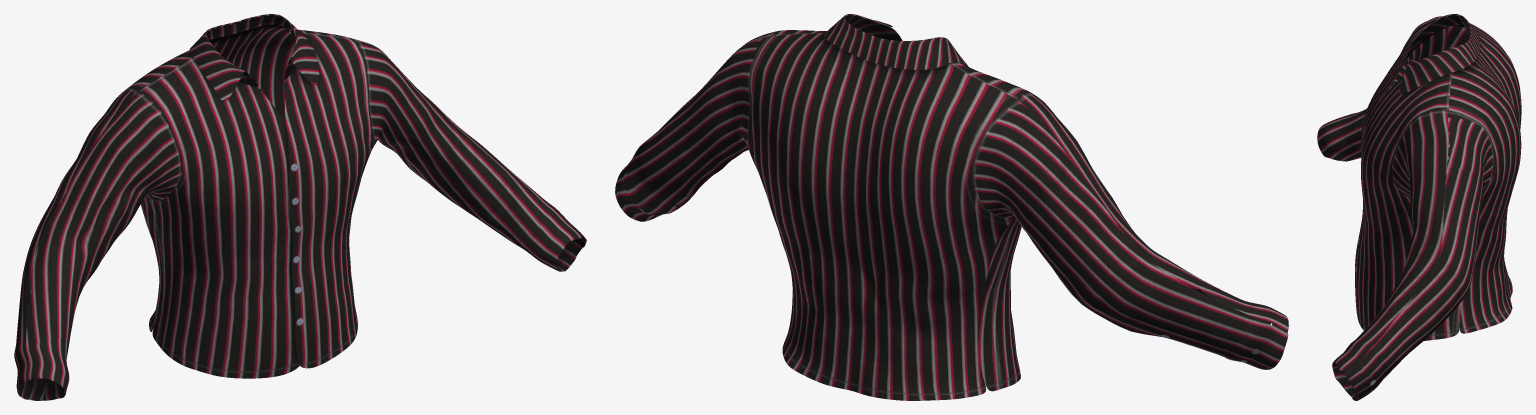
File: LM_XLM.dae
The picture shows the model from 3 angles, left to right: view 1: azimuth 30°, elevation 25°; view 2: azimuth 150°, elevation 25°; view 3: azimuth 270°, elevation 25°; orthographic projection. The views are drawn at different scales.
Parts seen in each view (by area): view 1: longshirt; view 2: longshirt; view 3: longshirt.
Boxes of the visible parts, x1,y1,x2,y2 form: longshirt: (14, 14, 586, 400); longshirt: (615, 14, 1288, 400); longshirt: (1317, 14, 1521, 400).
Size of the model in its own units: 10.59 by 5.5 by 3.56.
